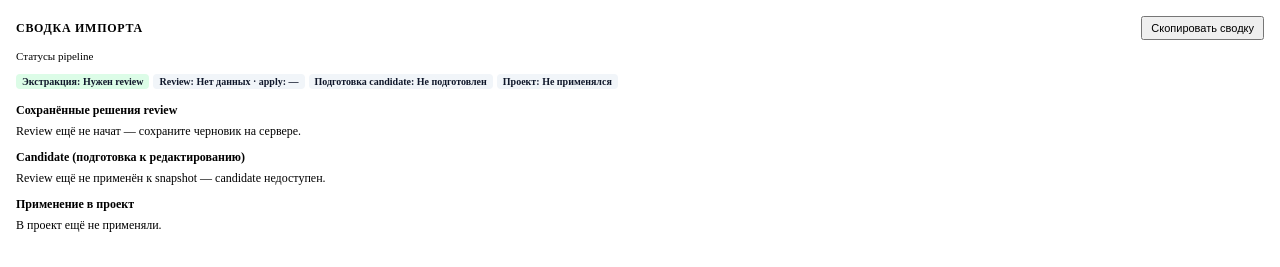
Test case: ImportReviewSummarySection › при ошибке clipboard показывается предупреждение
Click the button with test id "ir-summary-copy": click(1203, 28) [1141,16,1264,40]
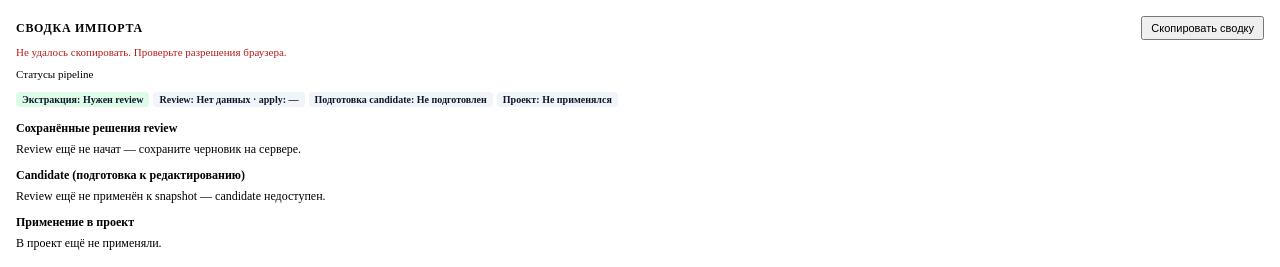
Result: the text with test id "ir-summary-copy-feedback" reads "Не удалось скопировать. Проверьте разрешения браузера." at [16,46,287,58]
